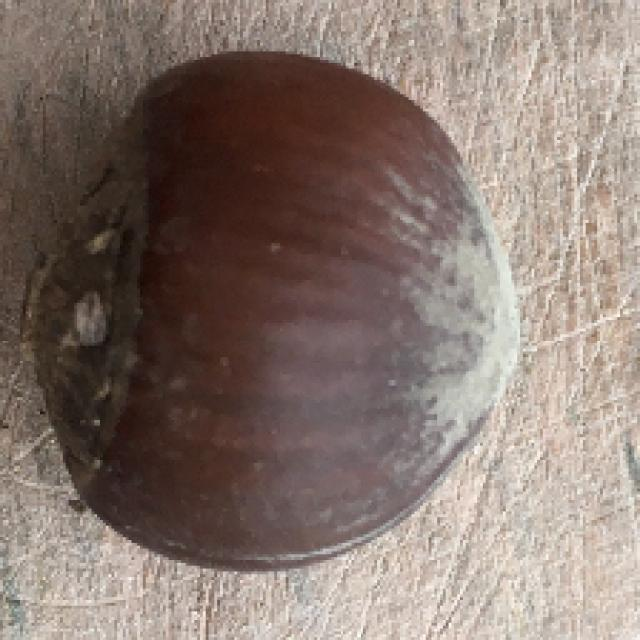damagedHazelnut: (26, 49, 528, 575)
